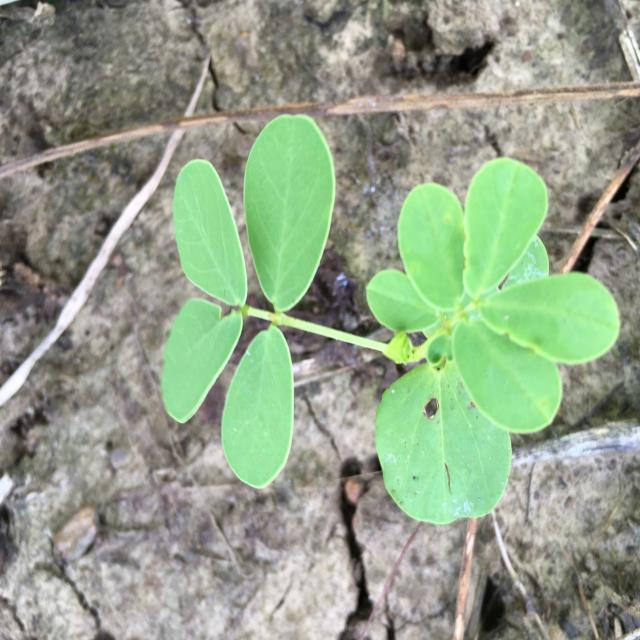Sicklepod: (160, 113, 620, 526)
